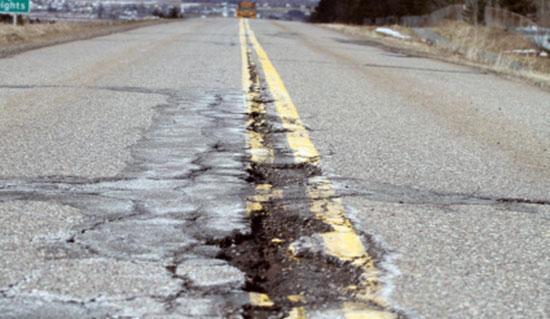pothole: (202, 17, 382, 319)
